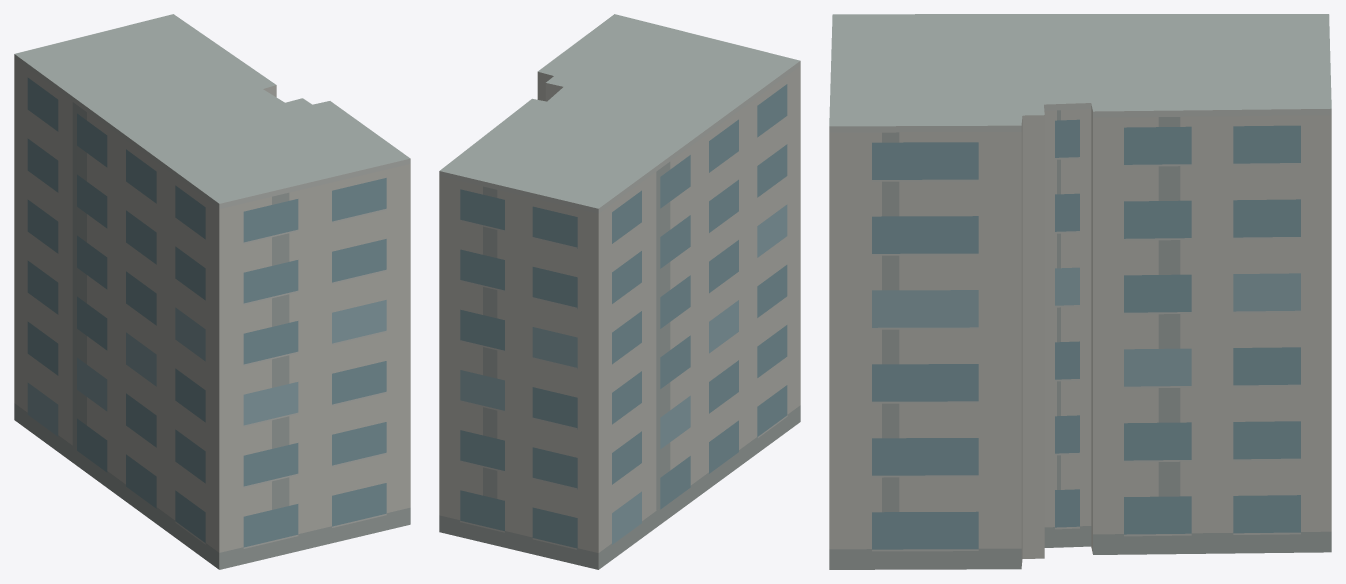
Rendered from survey-upis-32870391.glb.
The picture shows the model from 3 angles, left to right: view 1: azimuth 30°, elevation 25°; view 2: azimuth 150°, elevation 25°; view 3: azimuth 270°, elevation 25°; orthographic projection. The views are drawn at different scales.
Visible parts, largest first — view 1: survey-upis-32870391.tmp; view 2: survey-upis-32870391.tmp; view 3: survey-upis-32870391.tmp.
Part boxes in pixels (x1,y1,x2,y2): survey-upis-32870391.tmp: (14,14,410,569); survey-upis-32870391.tmp: (439,14,800,569); survey-upis-32870391.tmp: (829,14,1331,569).
Size of the model in its own units: 9.25 by 17 by 17.47.
